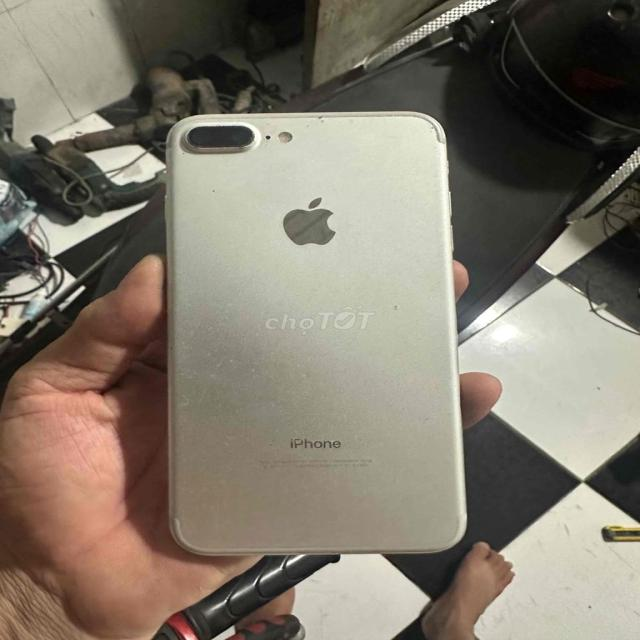gen_7_8: (152, 109, 473, 568)
scratch: (161, 295, 314, 419), (300, 111, 456, 146), (175, 118, 269, 153), (382, 296, 404, 314)
